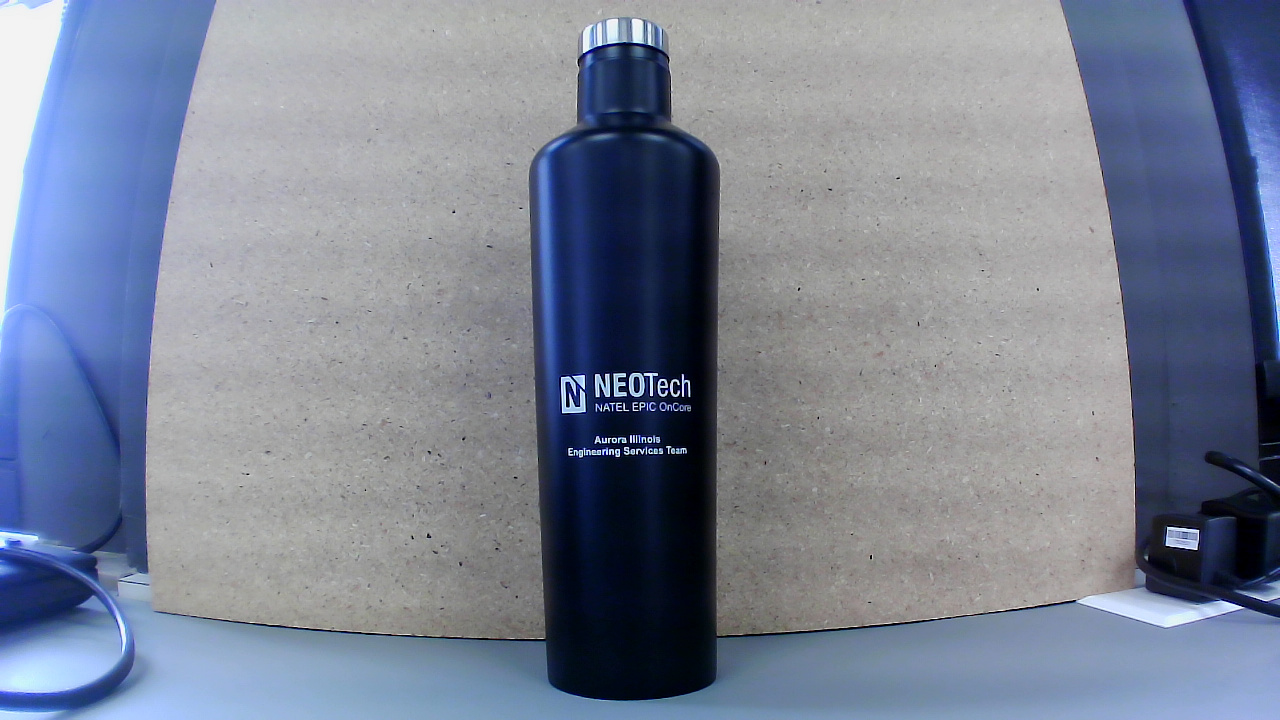neobottle: (519, 14, 733, 704)
